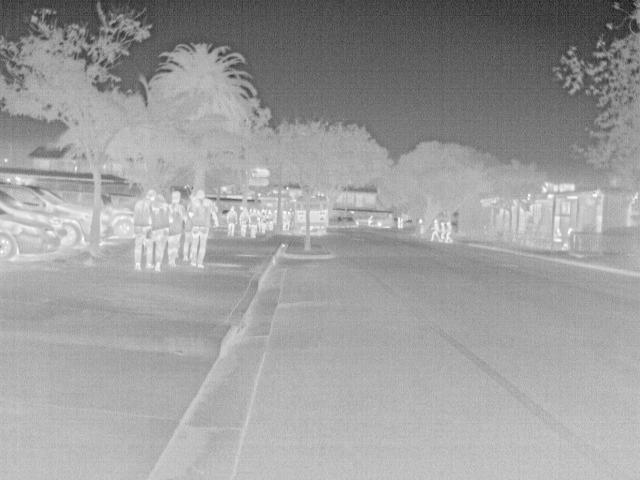car: (2, 181, 95, 247), (1, 206, 60, 262), (105, 204, 134, 240)
person: (185, 189, 221, 270), (129, 191, 157, 272), (163, 190, 187, 266), (148, 192, 167, 272), (246, 207, 261, 237), (225, 205, 238, 237), (238, 206, 251, 236), (443, 218, 458, 244), (562, 226, 578, 250), (426, 218, 440, 244), (553, 224, 568, 242)
